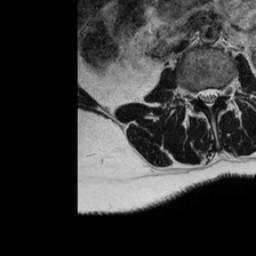CCS_normal: (205, 81, 212, 114)
LFS_normal: (219, 80, 226, 103)
LLS_normal: (212, 82, 219, 106)
RFS_normal: (190, 83, 198, 106)
RLS_normal: (198, 82, 205, 107)
